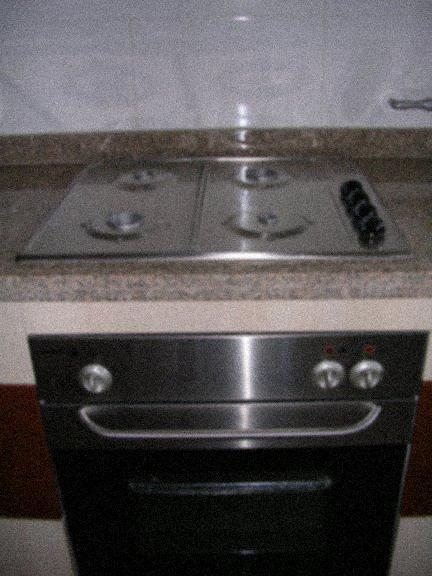Electrodomestico: (36, 155, 430, 570)
